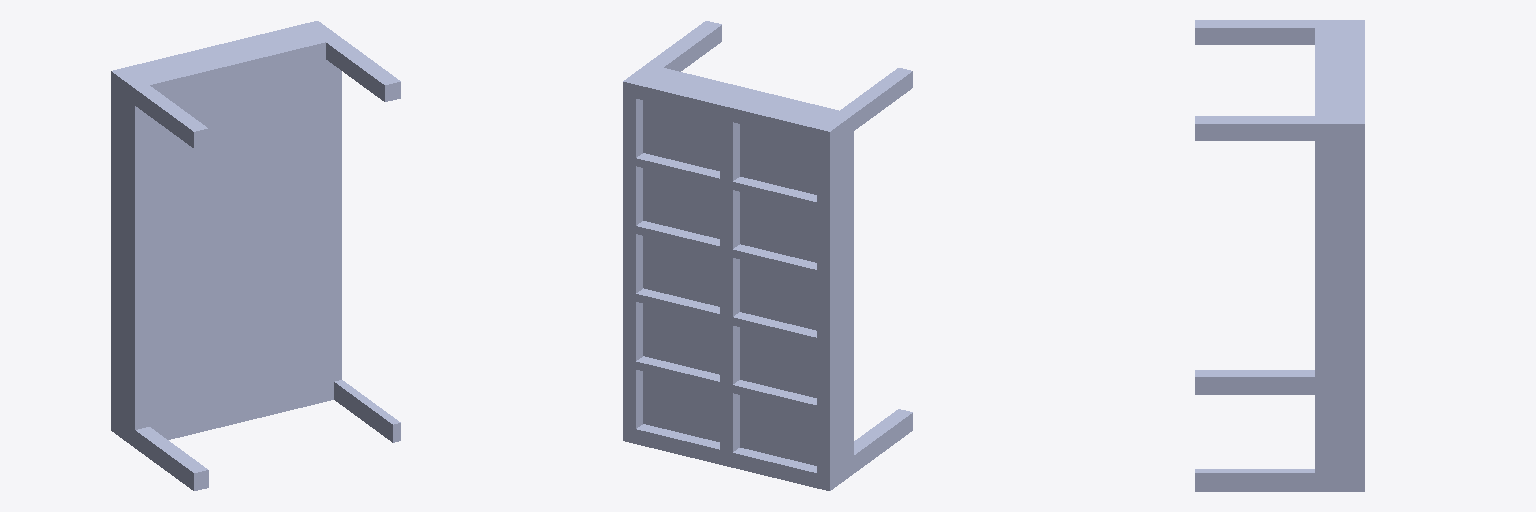
The robot description file, URDF, robot "desk":
<?xml version="1.0" encoding="utf-8"?>
<!-- This URDF was automatically created by SolidWorks to URDF Exporter! Originally created by [author] ([email redacted]) 
     Commit Version: 1.5.1-0-g916b5db  Build Version: 1.5.7152.31018
     For more information, please see http://wiki.ros.org/sw_urdf_exporter -->
<robot
  name="desk">
  <link
    name="desk">
    <inertial>
      <origin
        xyz="0.57079 -0.15101 -0.94674"
        rpy="0 0 0" />
      <mass
        value="420.01" />
      <inertia
        ixx="141.97"
        ixy="-0.26135"
        ixz="-1.1031"
        iyy="188.68"
        iyz="-0.646080000000008"
        izz="54.592" />
    </inertial>
    <visual>
      <origin
        xyz="0 0 0"
        rpy="1.5707963267949 0 0" />
      <geometry>
        <mesh
          filename="package://desk/meshes/desk.STL" />
      </geometry>
      <material
        name="">
        <color
          rgba="0.79216 0.81961 0.93333 1" />
        <texture
          filename="package://desk/textures/" />
      </material>
    </visual>
    <collision>
      <origin
        xyz="0 0 0"
        rpy="1.5707963267949 0 0" />
      <geometry>
        <mesh
          filename="package://desk/meshes/desk.STL" />
      </geometry>
    </collision>
  </link>
</robot>

--- What the picture shows (computed from the rendered views, not written in the file) ---
The picture shows the robot from 3 angles, left to right: view 1: azimuth 30°, elevation 25°; view 2: azimuth 150°, elevation 25°; view 3: azimuth 270°, elevation 25°; orthographic projection.
Model desk with 1 links and 0 joints (none), rooted at desk, posed every joint at zero.
Visible links, largest first — view 1: desk; view 2: desk; view 3: desk.
Boxes of the visible links, bbox=[...] form: desk: bbox=[111, 21, 400, 490]; desk: bbox=[623, 21, 912, 490]; desk: bbox=[1195, 20, 1364, 491].
Size in the robot's own frame: 1.15 by 0.798 by 1.9 metres.
1 mesh visuals loaded from 1 distinct referenced files (1 binary STL).